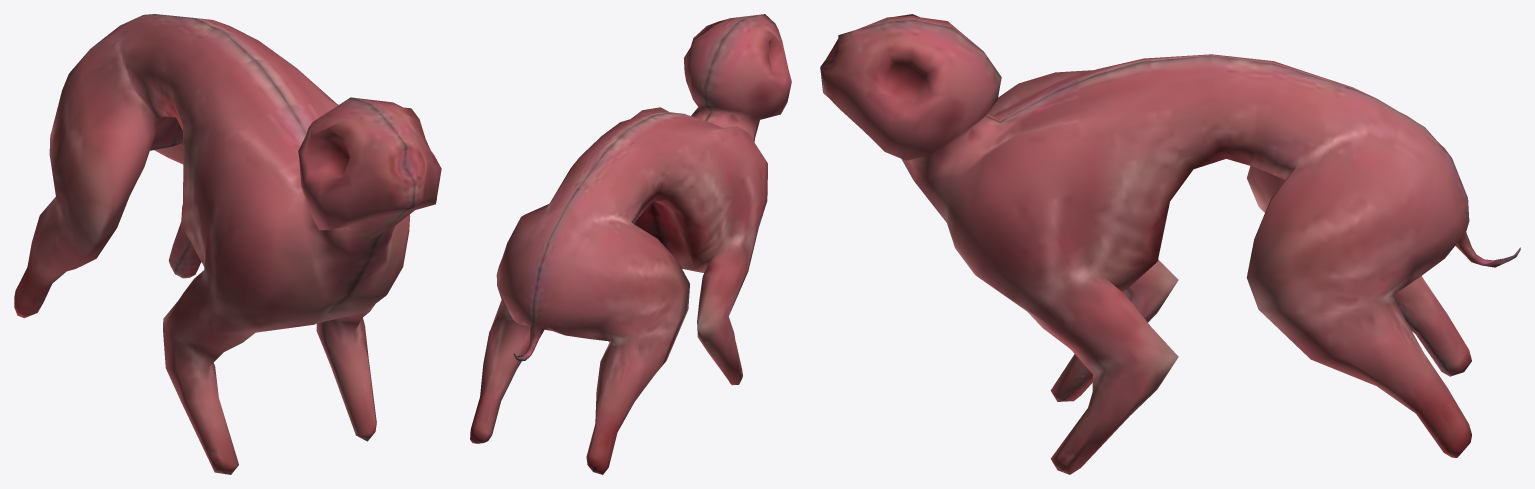
File: meat_rabbit_raw.glb
3 views of the same model, side by side, from view 1: azimuth 30°, elevation 25°; view 2: azimuth 150°, elevation 25°; view 3: azimuth 270°, elevation 25° (orthographic). The views are drawn at different scales.
Visible parts, largest first — view 1: meat_rabbit_LOD0; view 2: meat_rabbit_LOD0; view 3: meat_rabbit_LOD0.
Part boxes in pixels (bbox=[...]): meat_rabbit_LOD0: bbox=[14, 14, 441, 474]; meat_rabbit_LOD0: bbox=[470, 14, 791, 474]; meat_rabbit_LOD0: bbox=[820, 14, 1520, 474].
Size of the model in its own units: 0.3428 by 0.5996 by 0.9136.
1 material, 1 textured.
